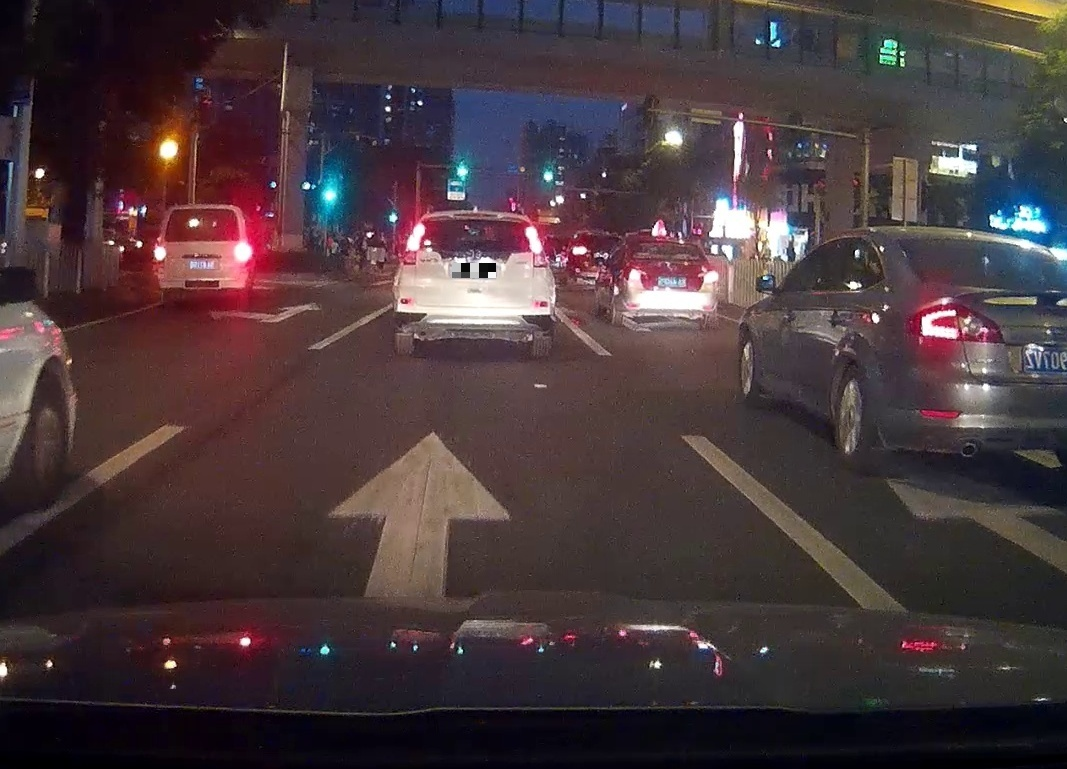L_light: (400, 222, 425, 265), (625, 267, 648, 280), (154, 244, 166, 268)
R_light: (523, 226, 548, 267), (697, 268, 719, 283), (235, 242, 248, 267)
T_light: (452, 212, 496, 217), (191, 209, 208, 213), (662, 242, 679, 245)
night-no: (392, 209, 555, 359), (621, 234, 719, 329)
night-right: (153, 204, 253, 309)
plate_1: (452, 263, 496, 278)
